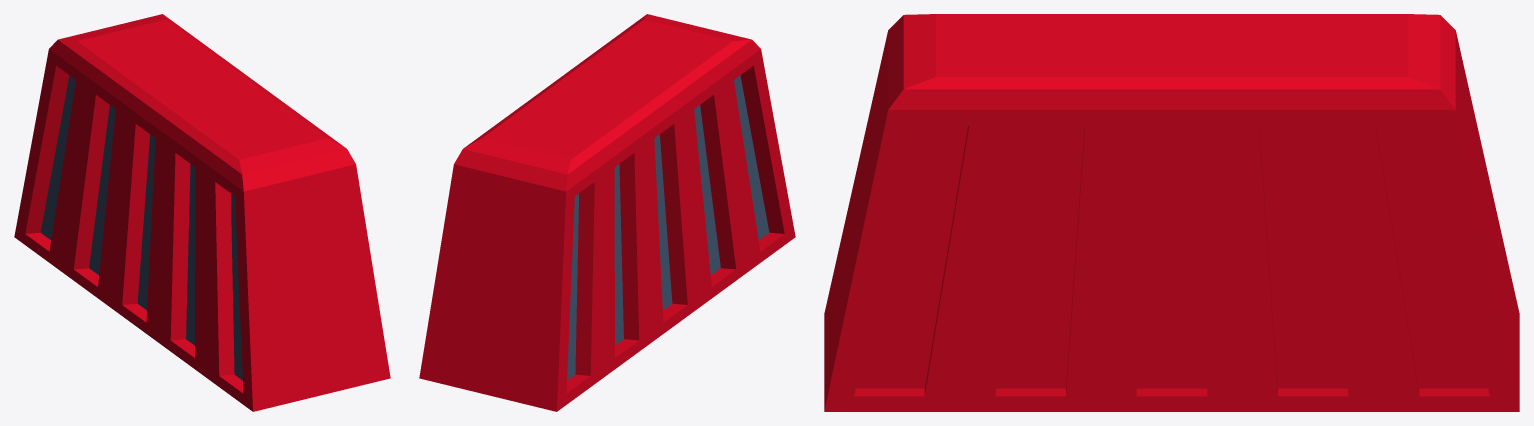
The model's file is P_BLOCKADE .fbx.
3 views of the same model, side by side, from view 1: azimuth 30°, elevation 25°; view 2: azimuth 150°, elevation 25°; view 3: azimuth 270°, elevation 25° (orthographic). The views are drawn at different scales.
Visible parts, largest first — view 1: Blokade; view 2: Blokade; view 3: Blokade.
Boxes of the visible parts, <box> form: Blokade: <box>14,14,390,411</box>; Blokade: <box>419,14,795,411</box>; Blokade: <box>824,14,1519,411</box>.
Size of the model in its own units: 132 by 397 by 200.
